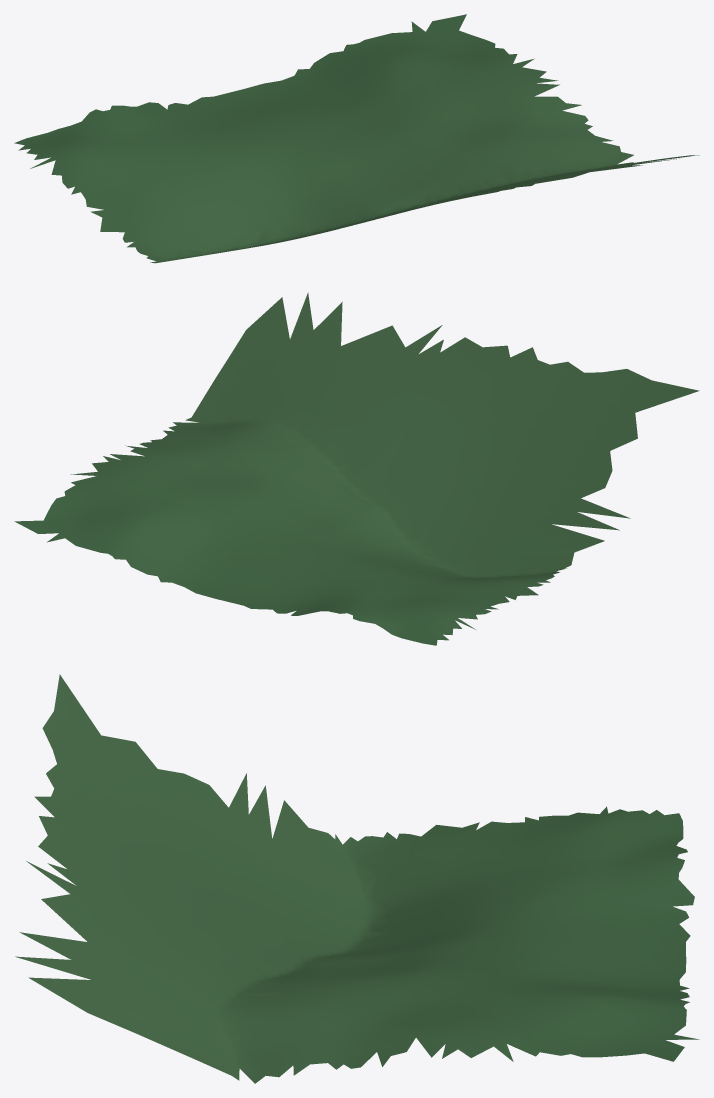
Rendered from payo_land_x0_y9.glb.
3 renders of one model, top to bottom at view 1: azimuth 30°, elevation 25°; view 2: azimuth 150°, elevation 25°; view 3: azimuth 270°, elevation 25°, orthographic. The views are drawn at different scales.
Parts seen in each view (by area): view 1: payo_land_x0_y9; view 2: payo_land_x0_y9; view 3: payo_land_x0_y9.
Part boxes in pixels (<box>): payo_land_x0_y9: <box>14,14,699,263</box>; payo_land_x0_y9: <box>14,292,699,645</box>; payo_land_x0_y9: <box>15,674,699,1083</box>.
Bounding box in the file's own units: 285 × 75.28 × 278.
